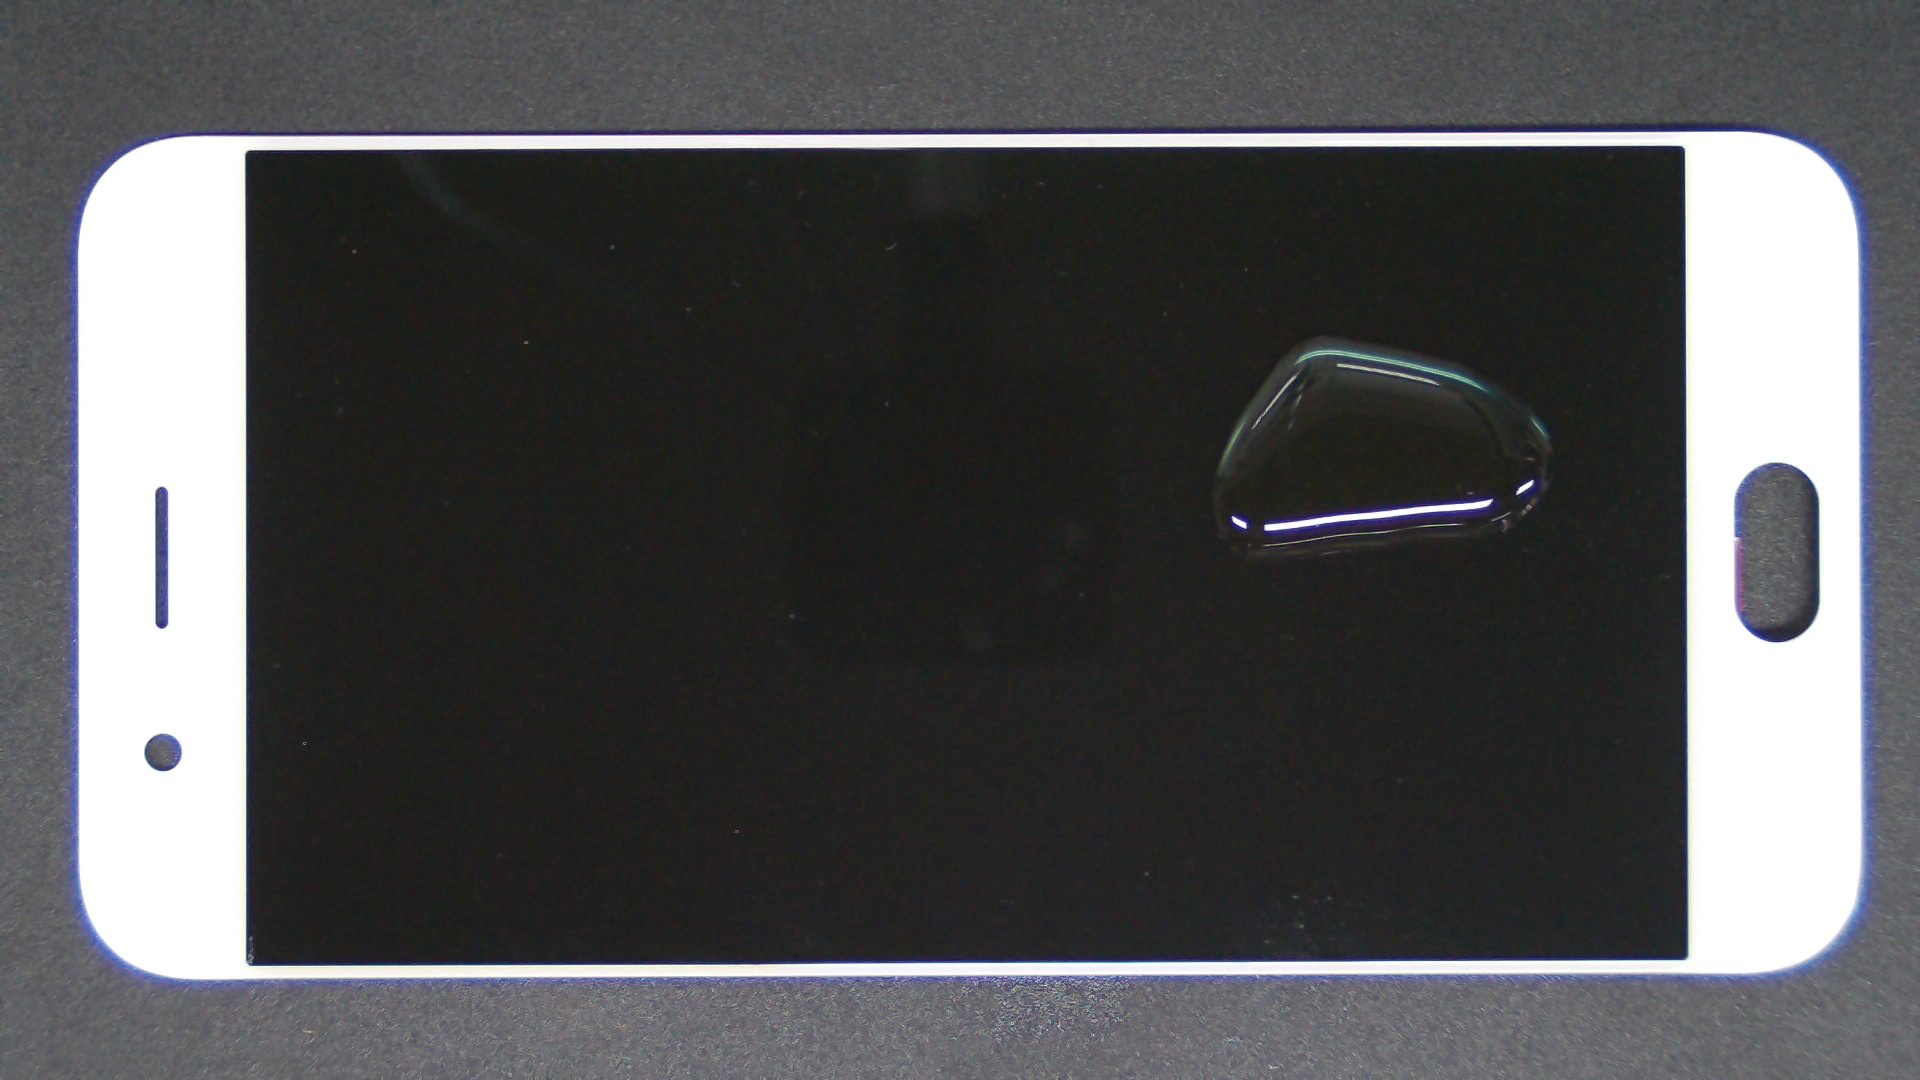oil: (666, 167, 1920, 502)
